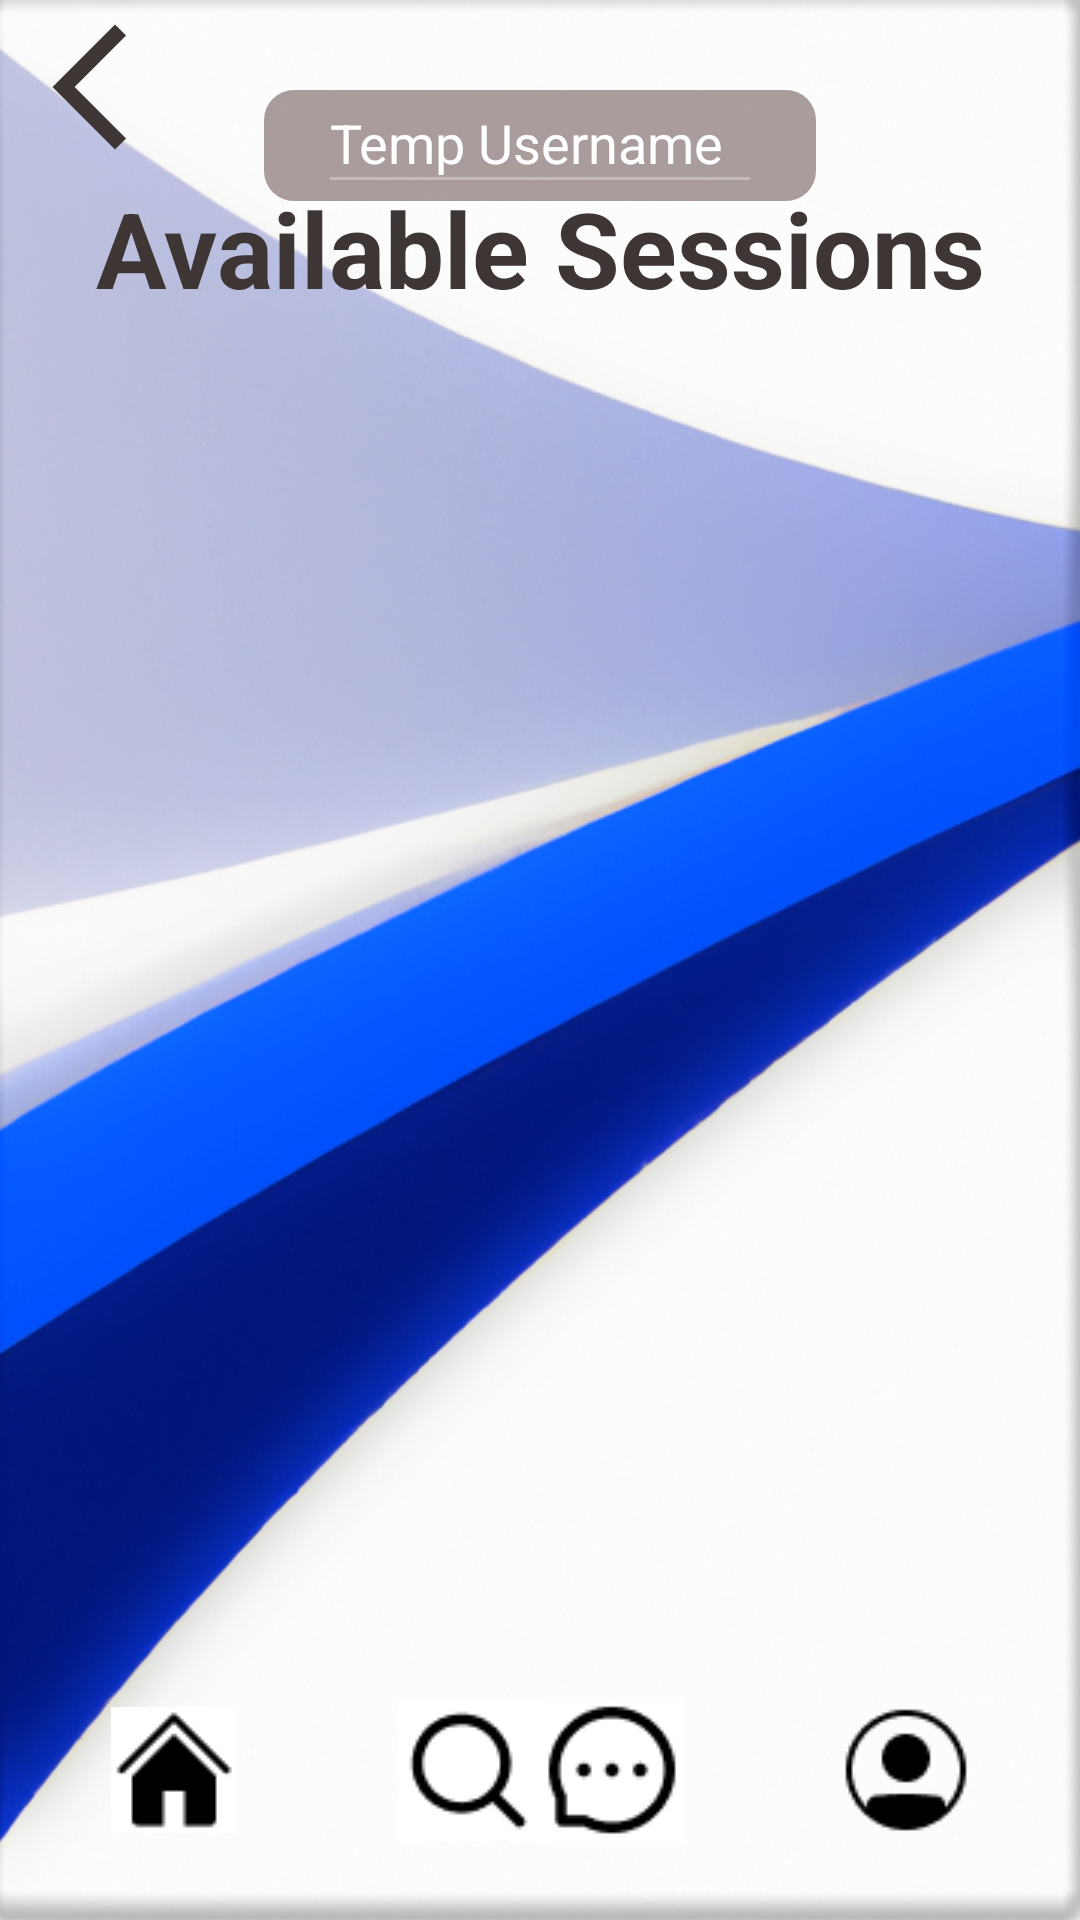

Named icons in this screenshot (1080w x 1920h) and their centers, point (x, y):
arrow back: point (90, 87)
